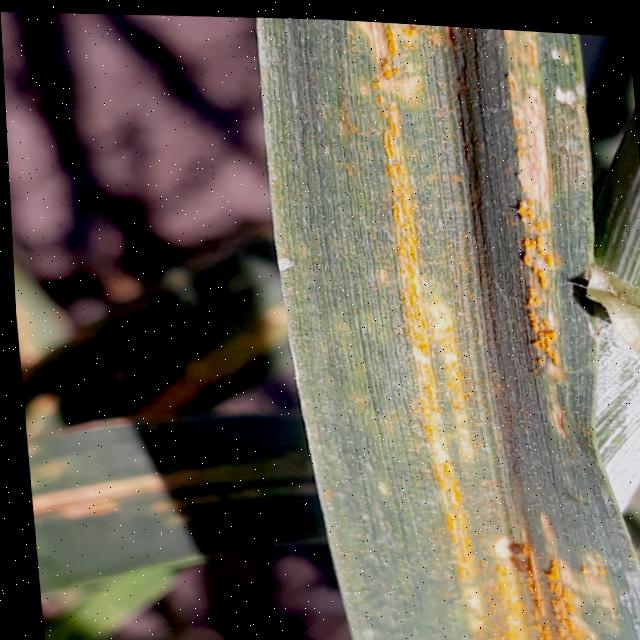yellow_rust: (247, 12, 640, 640), (9, 227, 331, 598)
